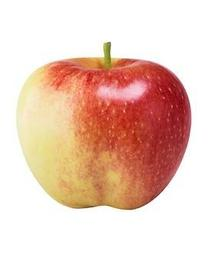apple: (15, 40, 192, 209)
